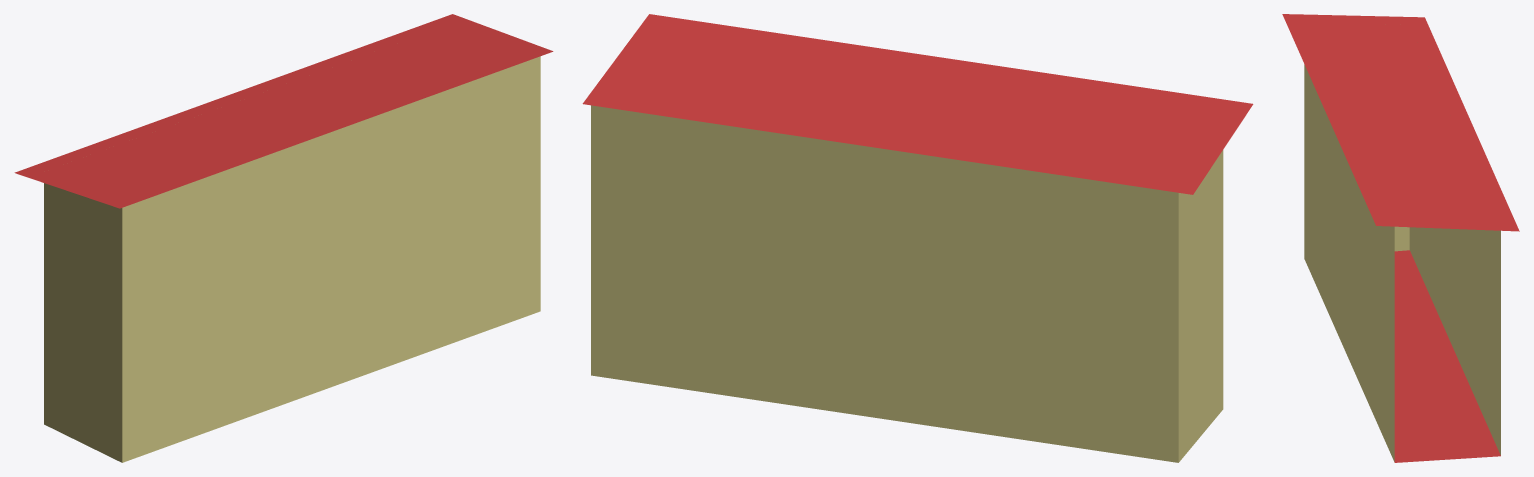
The picture shows the model from 3 angles, left to right: view 1: azimuth 30°, elevation 25°; view 2: azimuth 150°, elevation 25°; view 3: azimuth 270°, elevation 25°; orthographic projection. The views are drawn at different scales.
Size of the model in its own units: 14 by 6.3 by 6.97.
